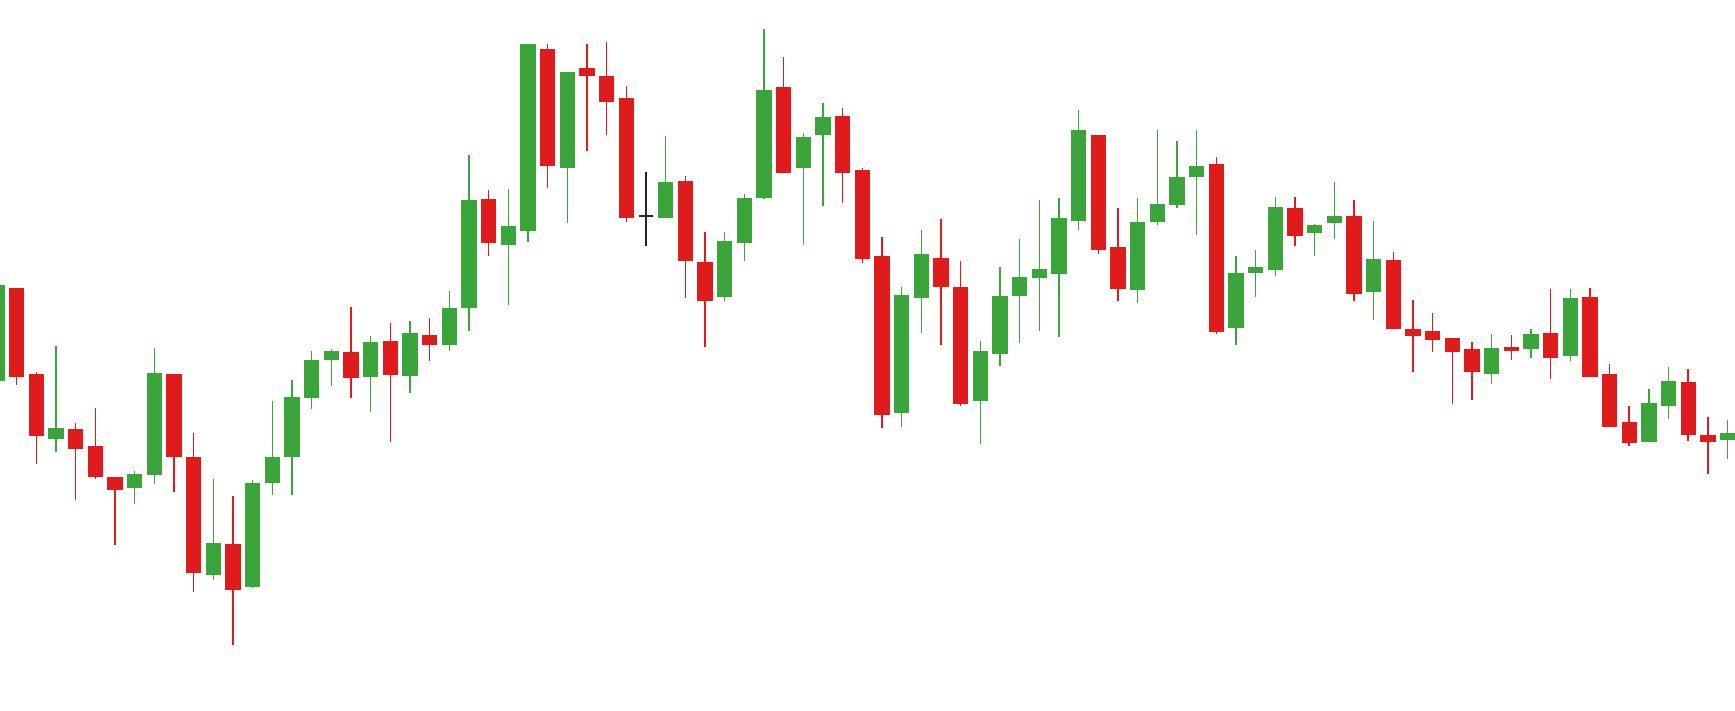buy: (106, 402, 225, 600)
sell: (910, 106, 1110, 314), (598, 28, 796, 224)
